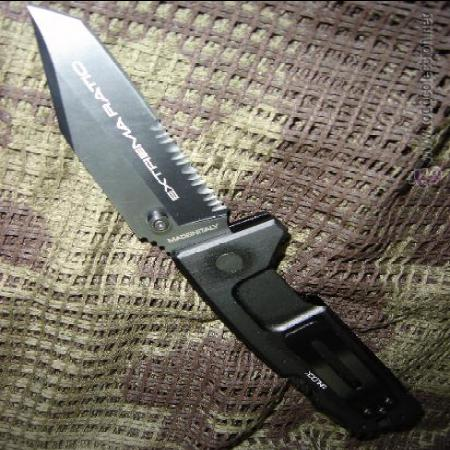long weapon: (21, 3, 238, 269)
